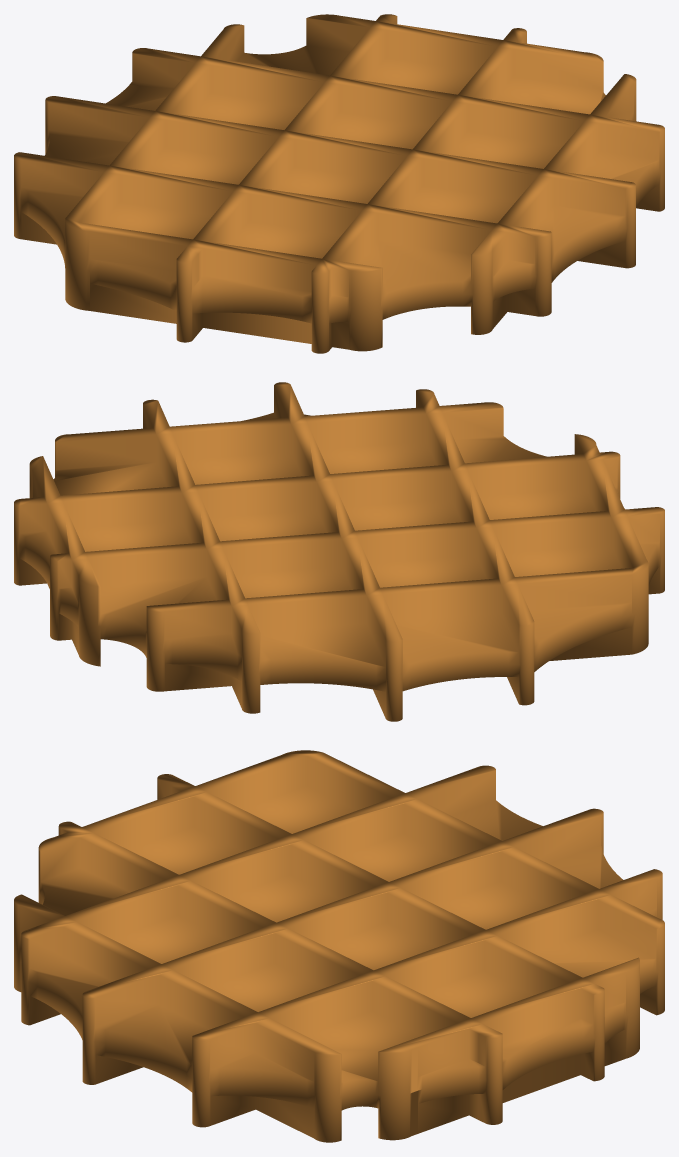
File: Waffle@die.fbx
3 views of the same model, one above another, from view 1: azimuth 30°, elevation 25°; view 2: azimuth 150°, elevation 25°; view 3: azimuth 270°, elevation 25° (orthographic). The views are drawn at different scales.
Visible parts, largest first — view 1: Group3, Group4; view 2: Group3, Group4; view 3: Group3, Group4.
Part boxes in pixels (x1,y1,x2,y2): Group3: (14,14,664,313); Group4: (14,139,664,353); Group3: (14,382,664,681); Group4: (14,496,664,721); Group3: (14,750,664,1099); Group4: (14,892,664,1142).
Bounding box in the file's own units: 1214 × 160 × 1092.
